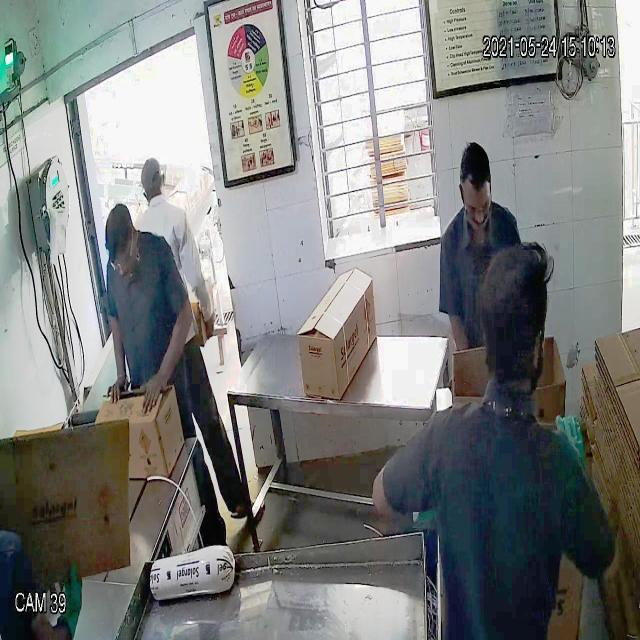glasses: (458, 185, 496, 221)
